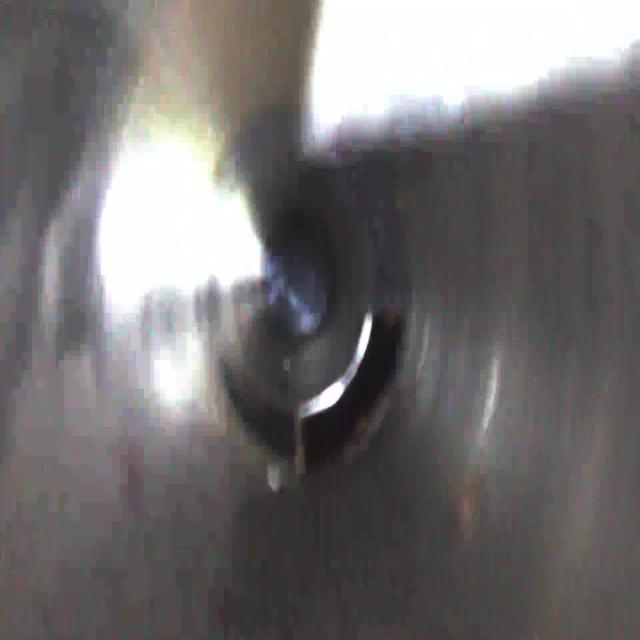hole: (291, 300, 405, 492)
